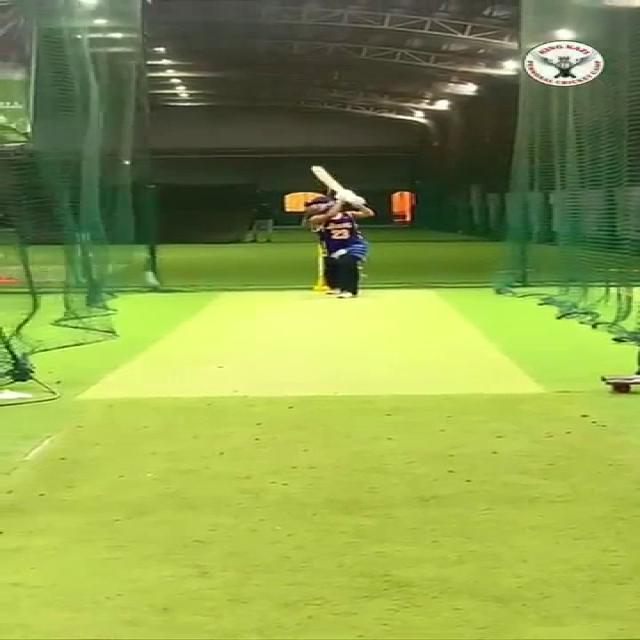batsman: (294, 164, 381, 300)
